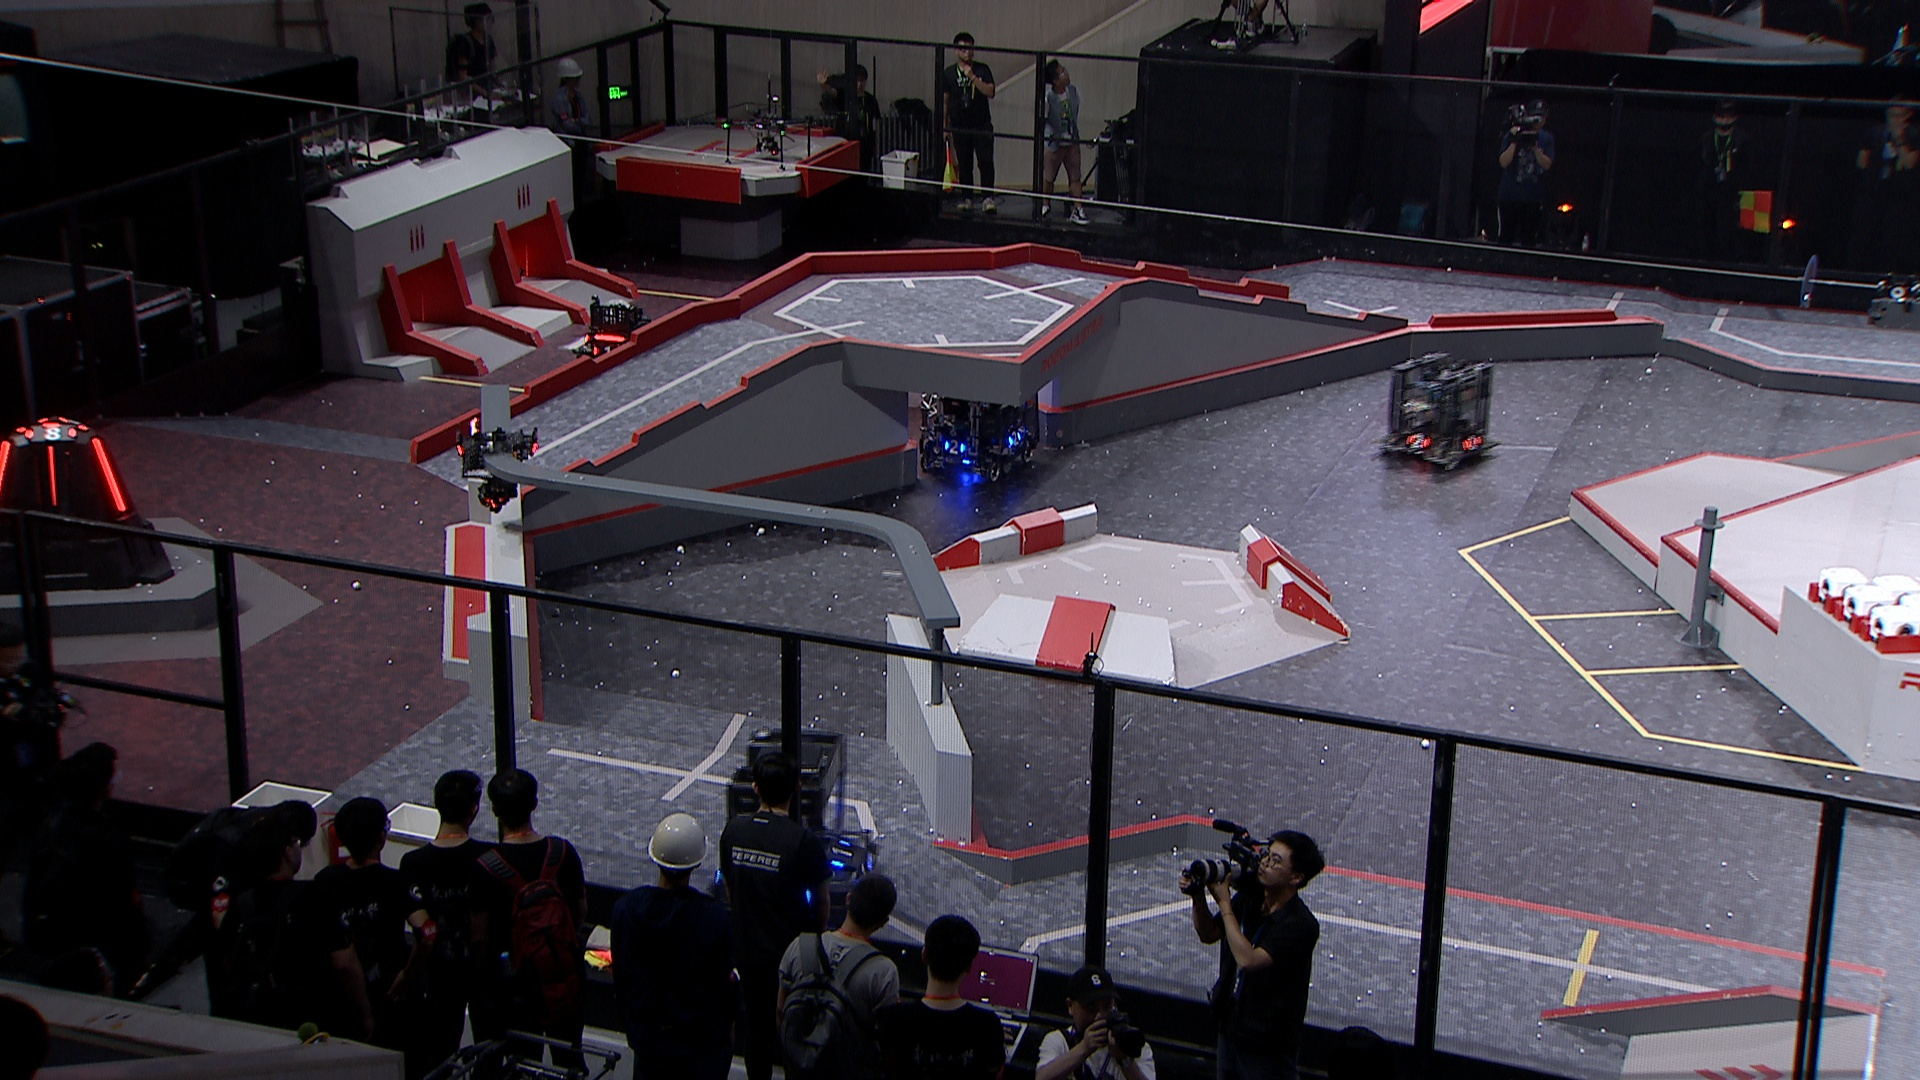armor: (91, 438, 128, 513), (18, 425, 76, 442), (45, 446, 58, 509), (829, 833, 852, 868), (1403, 429, 1429, 452), (855, 858, 878, 880), (1462, 433, 1484, 452), (589, 344, 615, 360), (942, 438, 963, 454), (1007, 433, 1025, 444)
car: (708, 727, 880, 924), (911, 360, 1046, 488), (1378, 349, 1499, 473), (574, 295, 655, 375)
watcher: (448, 417, 542, 513)
